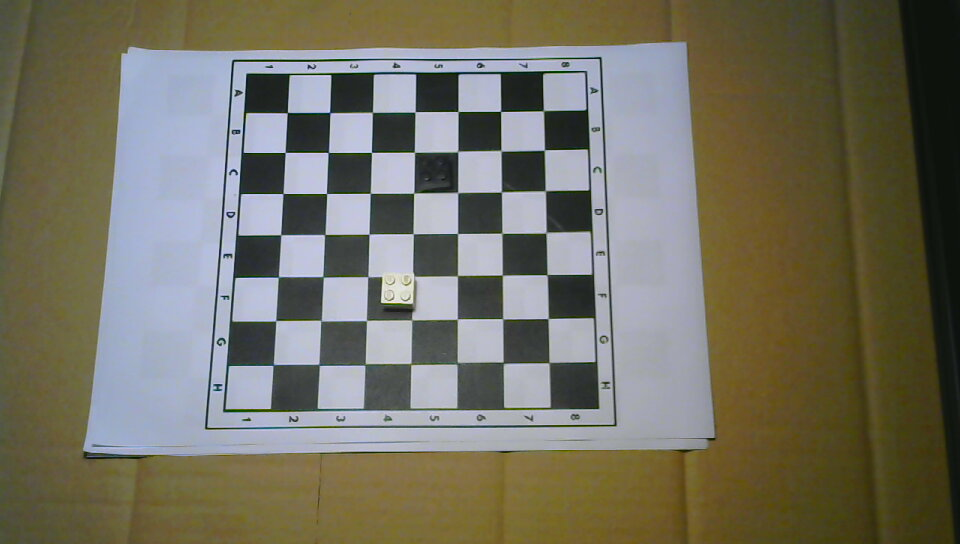bp: (415, 153, 454, 192)
wp: (379, 271, 417, 313)
